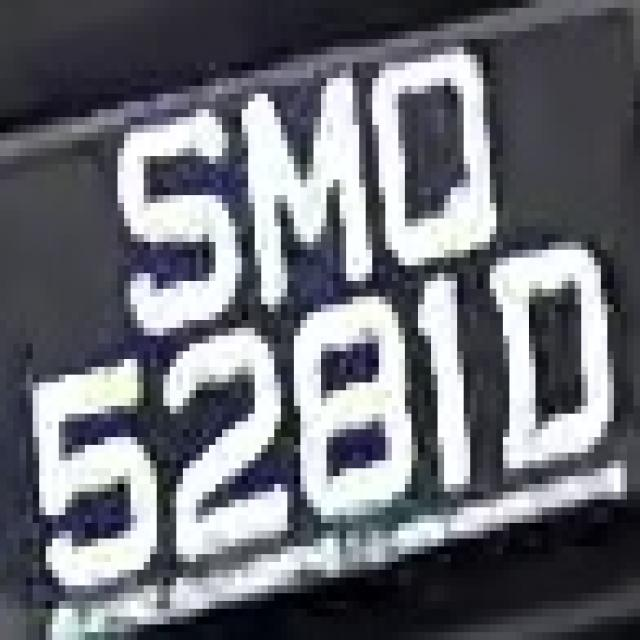1: (405, 234, 477, 523)
2: (157, 336, 307, 562)
5: (19, 359, 170, 601)
8: (268, 266, 411, 508)
D: (496, 227, 620, 508)
M: (228, 47, 378, 289)
Q: (353, 23, 509, 266)
S: (111, 94, 255, 344)
